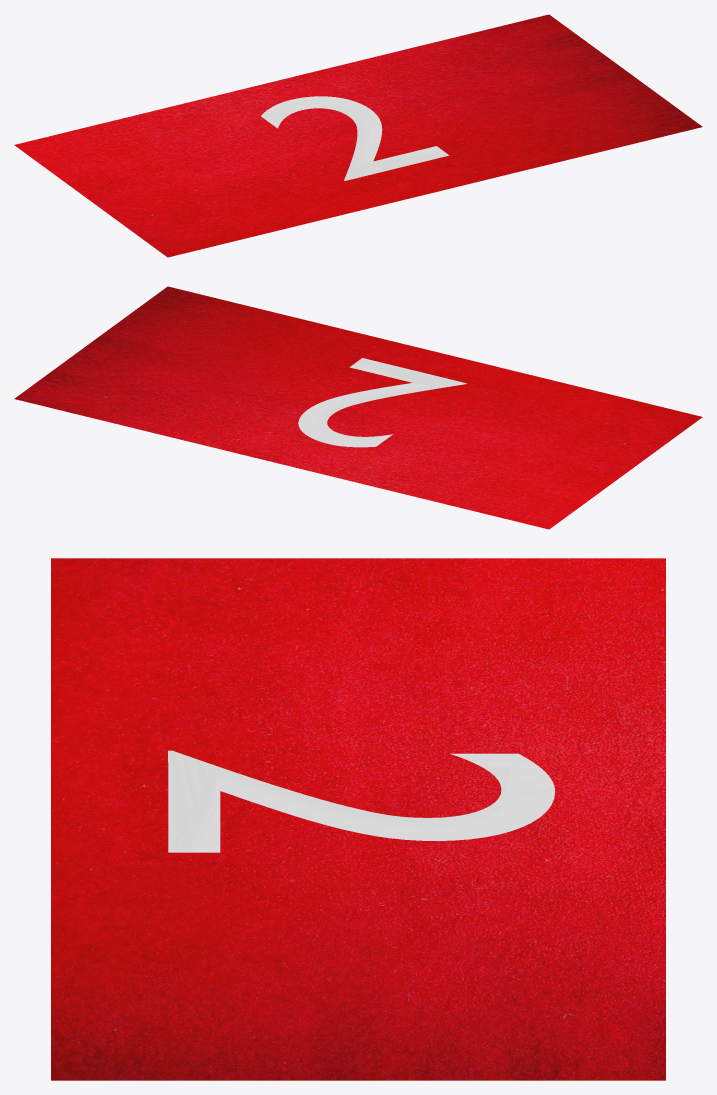
The model's file is redC.obj.
3 renders of one model, top to bottom at view 1: azimuth 30°, elevation 25°; view 2: azimuth 150°, elevation 25°; view 3: azimuth 270°, elevation 25°, orthographic. The views are drawn at different scales.
Visible parts, largest first — view 1: Plate2_Plane.001, Clue2_Text; view 2: Plate2_Plane.001, Clue2_Text; view 3: Plate2_Plane.001, Clue2_Text.
Boxes of the visible parts, x1,y1,x2,y2 form: Plate2_Plane.001: [14, 14, 702, 257]; Clue2_Text: [261, 96, 449, 180]; Plate2_Plane.001: [14, 286, 702, 529]; Clue2_Text: [298, 358, 466, 447]; Plate2_Plane.001: [51, 558, 665, 1080]; Clue2_Text: [168, 750, 554, 852].
Bounding box in the file's own units: 0.2175 × 0.00181 × 0.1082.
